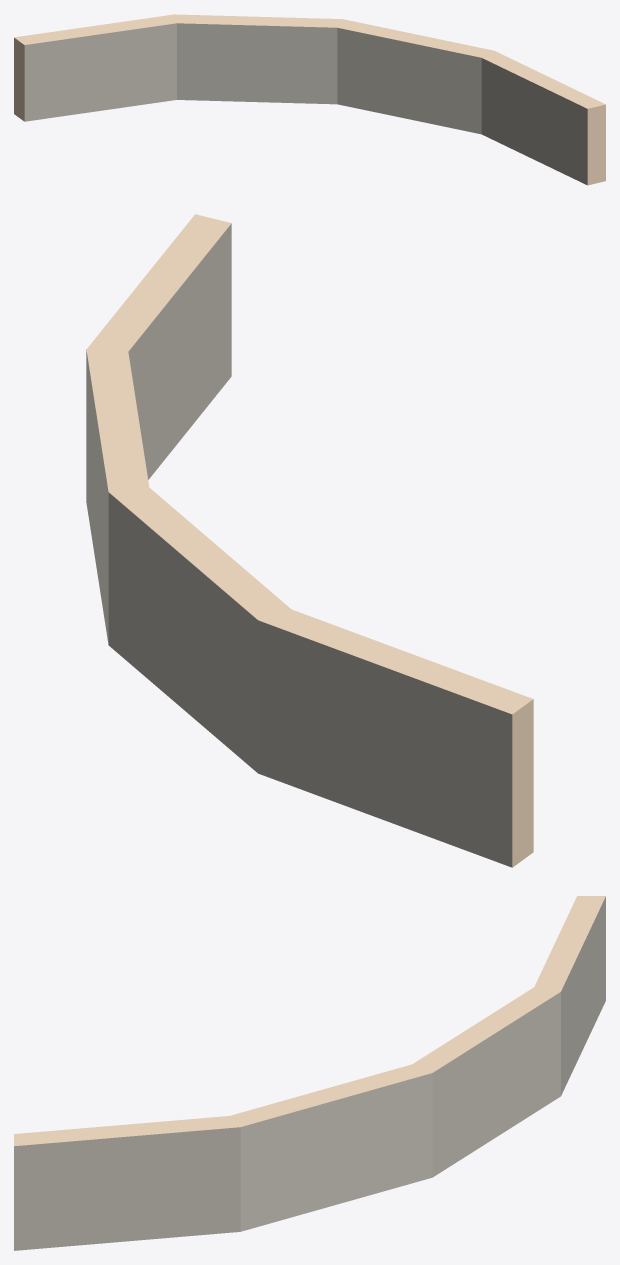
File: Tiered_Retaining_Wall_Flat_Curve_5x5_Mid.glb
3 renders of one model, top to bottom at view 1: azimuth 30°, elevation 25°; view 2: azimuth 150°, elevation 25°; view 3: azimuth 270°, elevation 25°, orthographic. The views are drawn at different scales.
Visible parts, largest first — view 1: Tiered_Retaining_Wall_Flat_Curve_5x5_Mid; view 2: Tiered_Retaining_Wall_Flat_Curve_5x5_Mid; view 3: Tiered_Retaining_Wall_Flat_Curve_5x5_Mid.
Boxes of the visible parts, x1,y1,x2,y2 form: Tiered_Retaining_Wall_Flat_Curve_5x5_Mid: (14, 14, 605, 185); Tiered_Retaining_Wall_Flat_Curve_5x5_Mid: (86, 214, 533, 867); Tiered_Retaining_Wall_Flat_Curve_5x5_Mid: (14, 896, 605, 1250).
Size of the model in its own units: 512 by 100 by 513.
